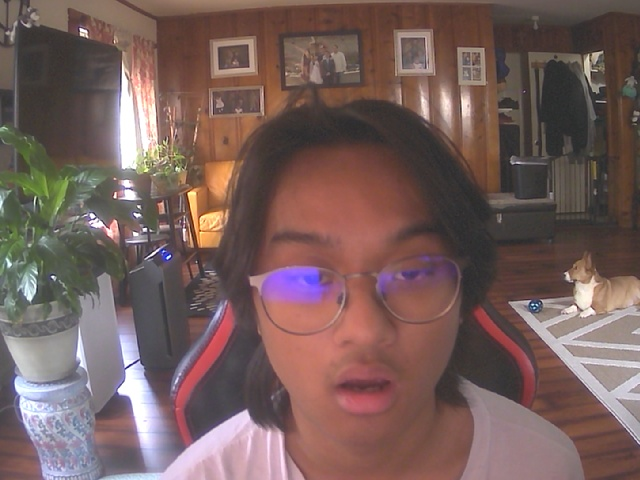fear: (249, 116, 477, 455)
